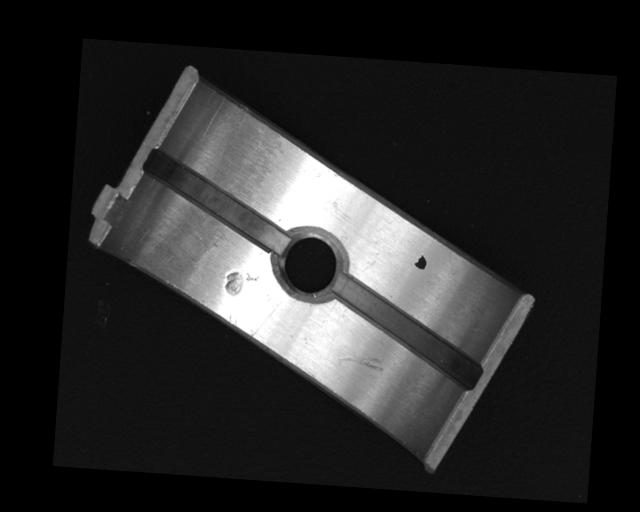blot: (413, 253, 427, 270)
bruise: (223, 269, 261, 299)
gap: (330, 273, 485, 390), (140, 149, 293, 252)
hole: (273, 225, 345, 304)
nick: (335, 353, 385, 373)
